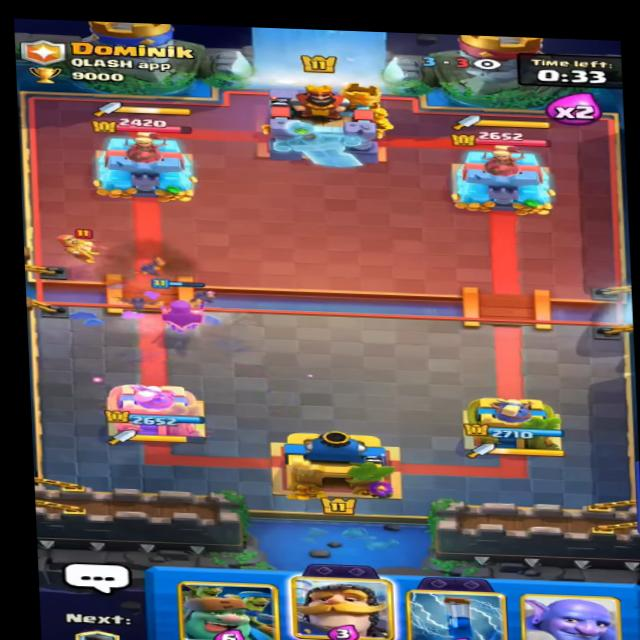Wizard: (57, 224, 121, 266)
